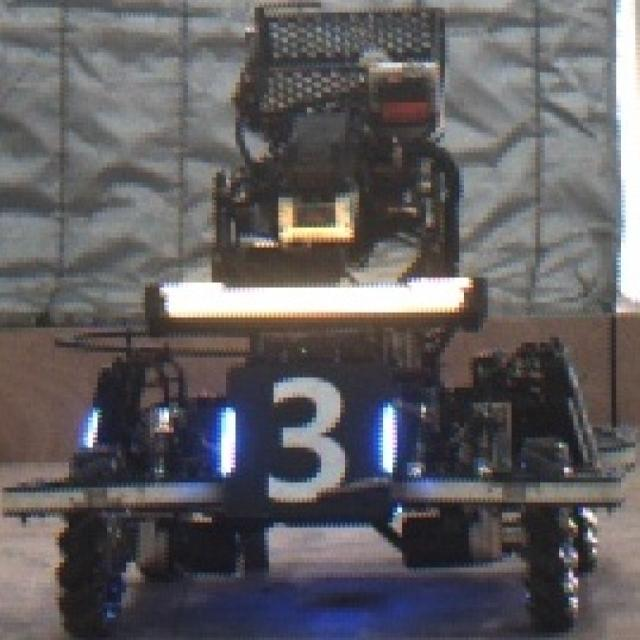B3: (212, 370, 397, 500)
